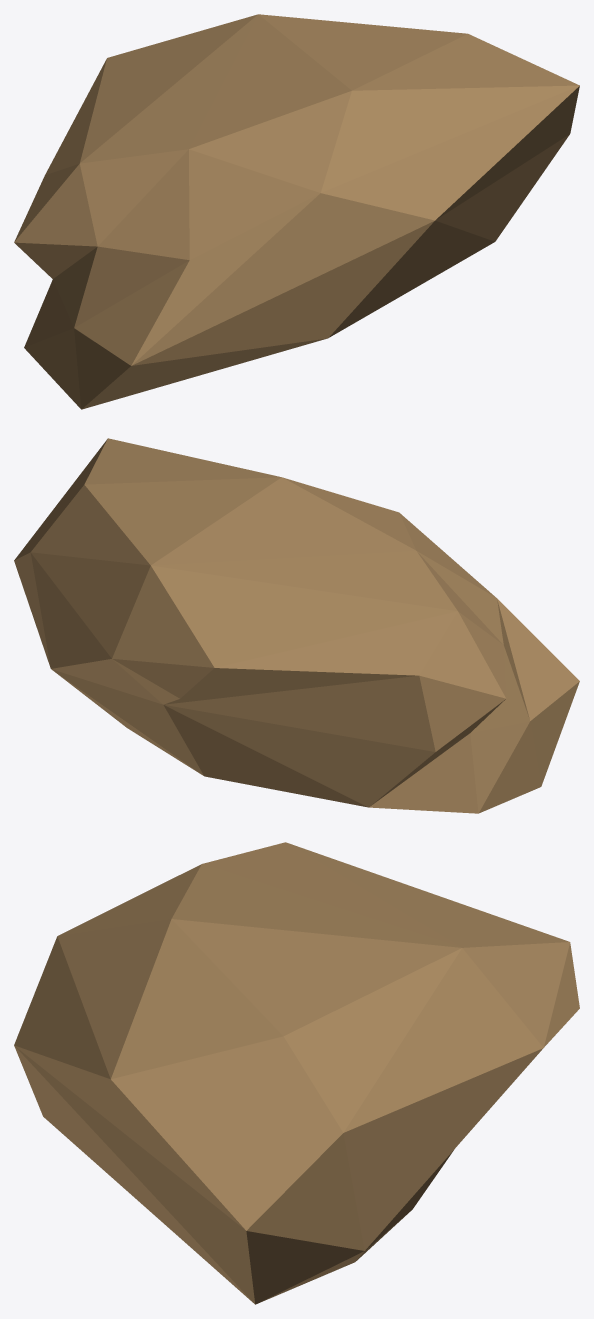
File: LP_Rock001.fbx
The picture shows the model from 3 angles, top to bottom: view 1: azimuth 30°, elevation 25°; view 2: azimuth 150°, elevation 25°; view 3: azimuth 270°, elevation 25°; orthographic projection. The views are drawn at different scales.
Visible parts, largest first — view 1: Rock001; view 2: Rock001; view 3: Rock001.
Part boxes in pixels (<box>): Rock001: <box>14,14,579,409</box>; Rock001: <box>14,438,579,813</box>; Rock001: <box>14,842,579,1304</box>.
Bounding box in the file's own units: 264 × 120 × 192.
